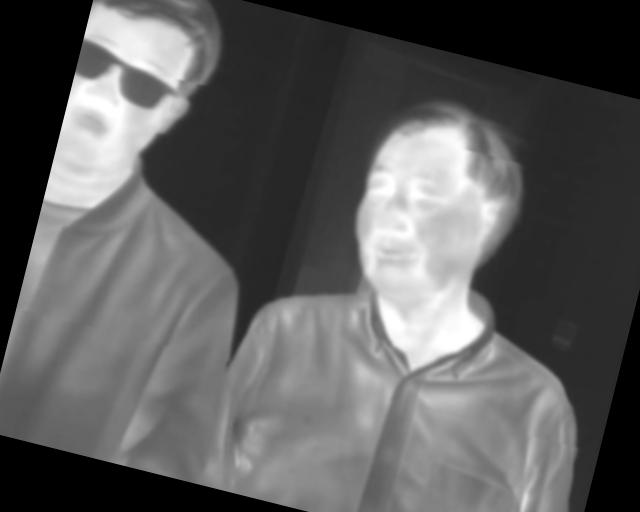face: (339, 83, 540, 319), (52, 1, 231, 198)
